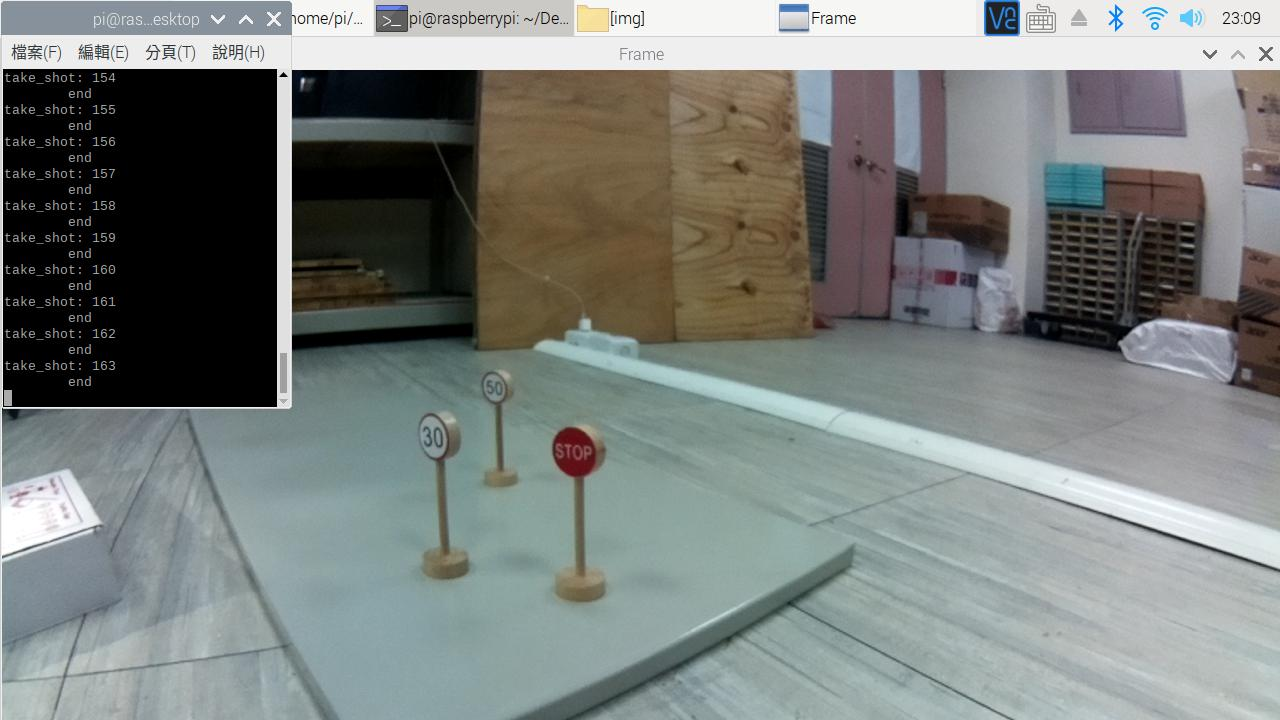Speed30: (409, 404, 473, 462)
Speed50: (476, 362, 526, 416)
Stop: (540, 414, 618, 486)
